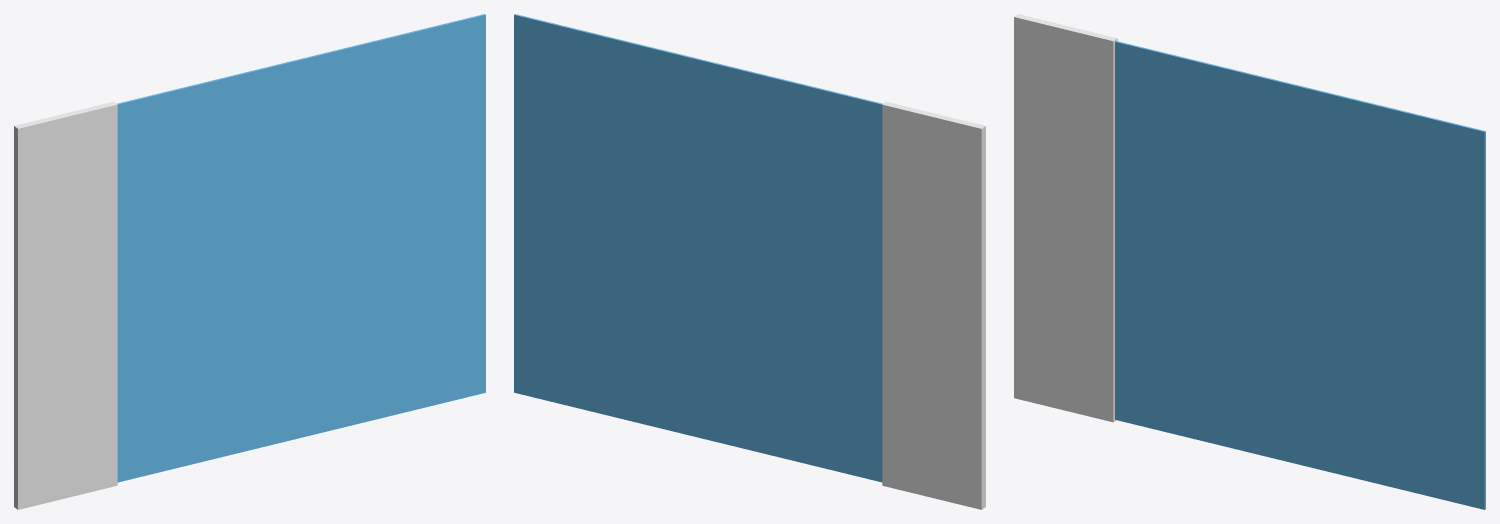
The model's file is cartao2.fbx.
3 renders of one model, left to right at view 1: azimuth 30°, elevation 25°; view 2: azimuth 150°, elevation 25°; view 3: azimuth 330°, elevation 25°, orthographic.
Visible parts, largest first — view 1: Object001, Box001; view 2: Object001, Box001; view 3: Object001, Box001.
Boxes of the visible parts, x1=… form: Object001: x1=117, y1=14, x2=485, y2=482; Box001: x1=14, y1=101, x2=117, y2=509; Object001: x1=514, y1=14, x2=882, y2=482; Box001: x1=882, y1=101, x2=985, y2=509; Object001: x1=1115, y1=41, x2=1485, y2=509; Box001: x1=1014, y1=14, x2=1117, y2=422.
Size of the model in its own units: 30.23 by 23.46 by 0.458.
